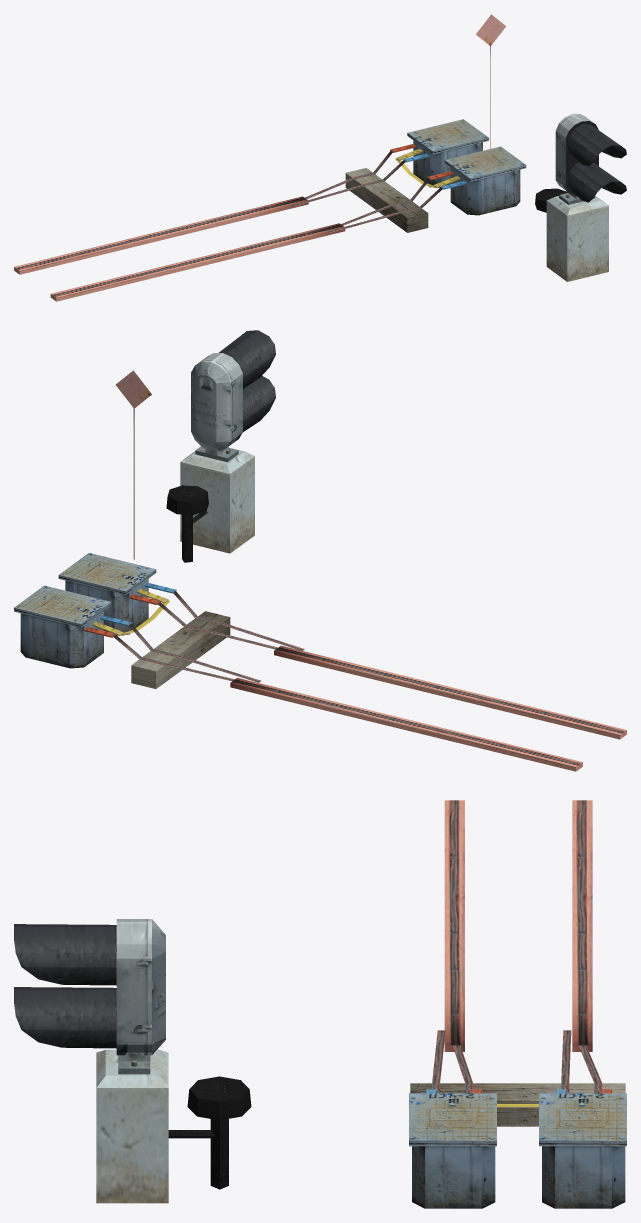
File: sig_k2.gltf
3 renders of one model, top to bottom at view 1: azimuth 30°, elevation 25°; view 2: azimuth 150°, elevation 25°; view 3: azimuth 270°, elevation 25°, orthographic. The views are drawn at different scales.
Size of the model in its own units: 4 by 1.66 by 2.66.
Materials: 1 (1 with a texture image).
